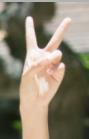front: (18, 15, 73, 103)
